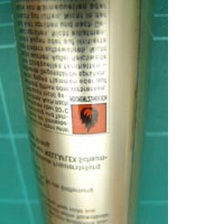aerosol_cans: (4, 0, 158, 224)
